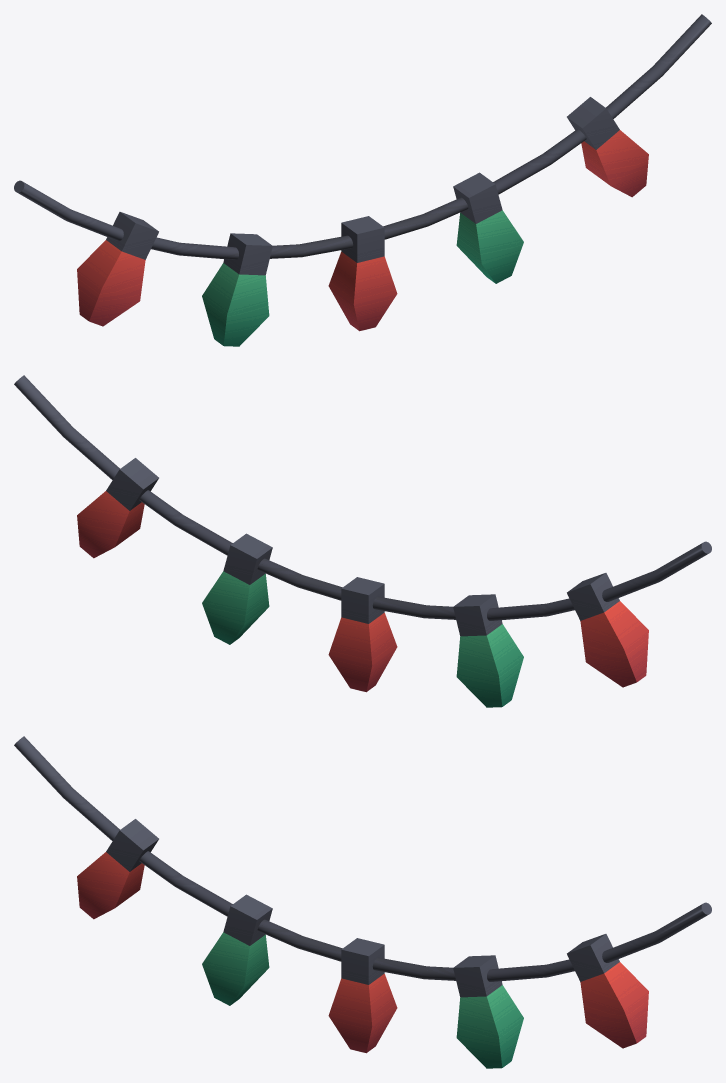
The model's file is lights-colored.glb.
3 renders of one model, top to bottom at view 1: azimuth 30°, elevation 25°; view 2: azimuth 150°, elevation 25°; view 3: azimuth 330°, elevation 25°, orthographic.
Visible parts, largest first — view 1: lights-colored; view 2: lights-colored; view 3: lights-colored.
Part boxes in pixels (x1,y1,x2,y2): lights-colored: (14, 14, 711, 346); lights-colored: (14, 375, 711, 707); lights-colored: (14, 736, 711, 1068).
Bounding box in the file's own units: 1.01 × 0.3162 × 0.0636.
Materials: 1 (1 with a texture image).
